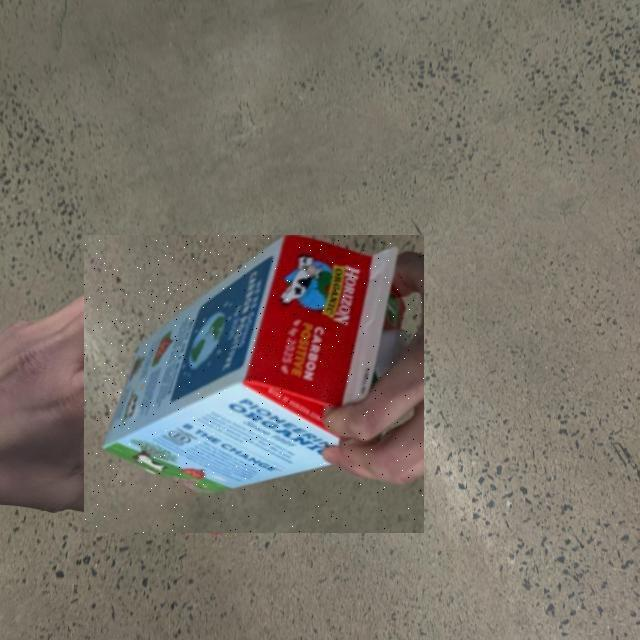Milk: (85, 235, 425, 533)
